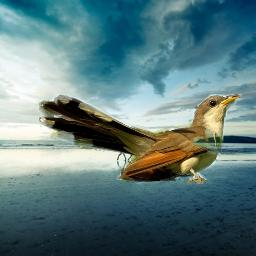Cuckoo: (39, 94, 242, 184)
